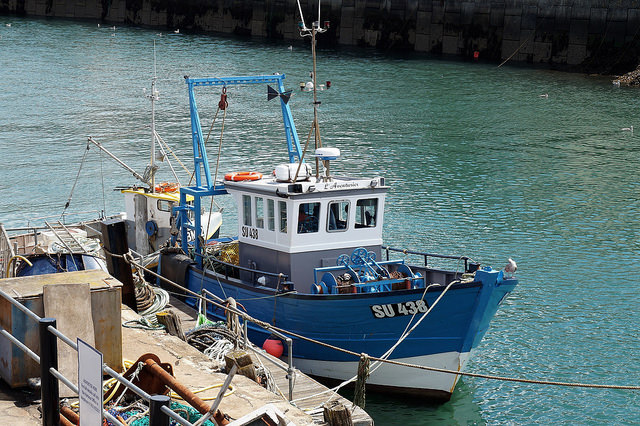fishing_boat: (96, 33, 517, 370)
